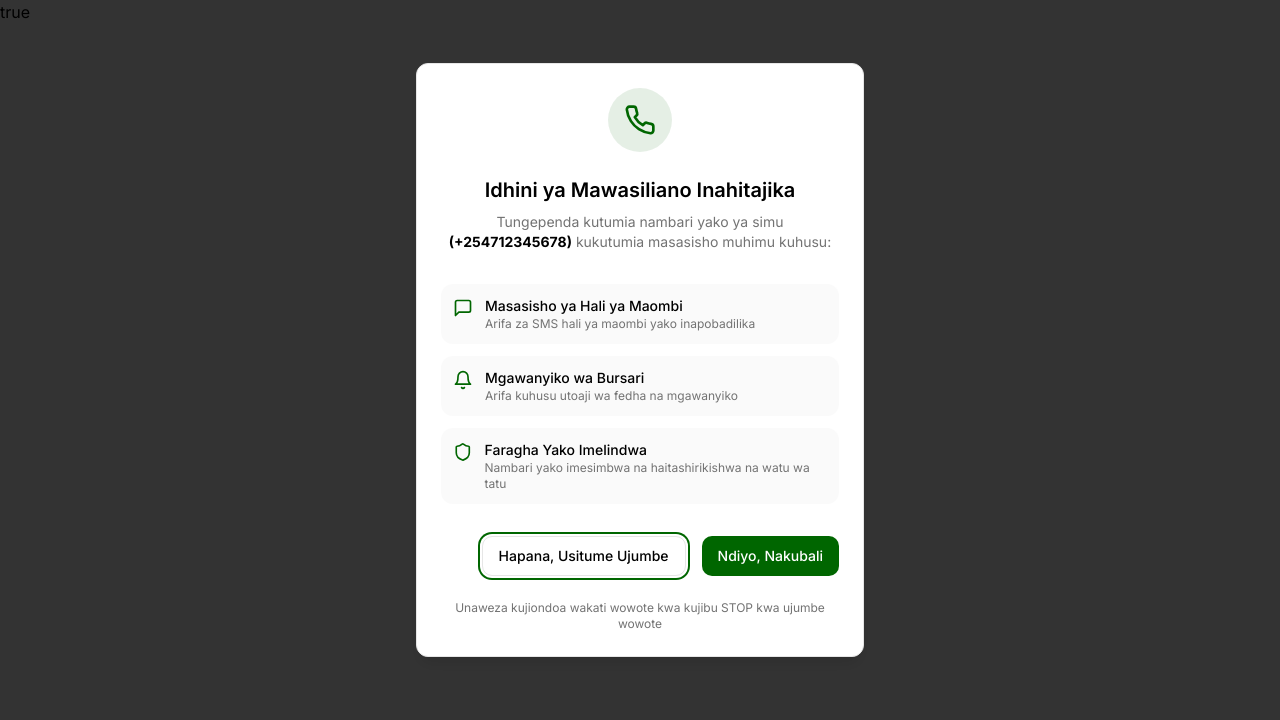
Test case: Consent persistence into ApplicationContext › stores consentNotifications=false when the user declines
Step 1. Click the button "Hapana, Usitume Ujumbe" → (584, 556), box [482,536,686,576]
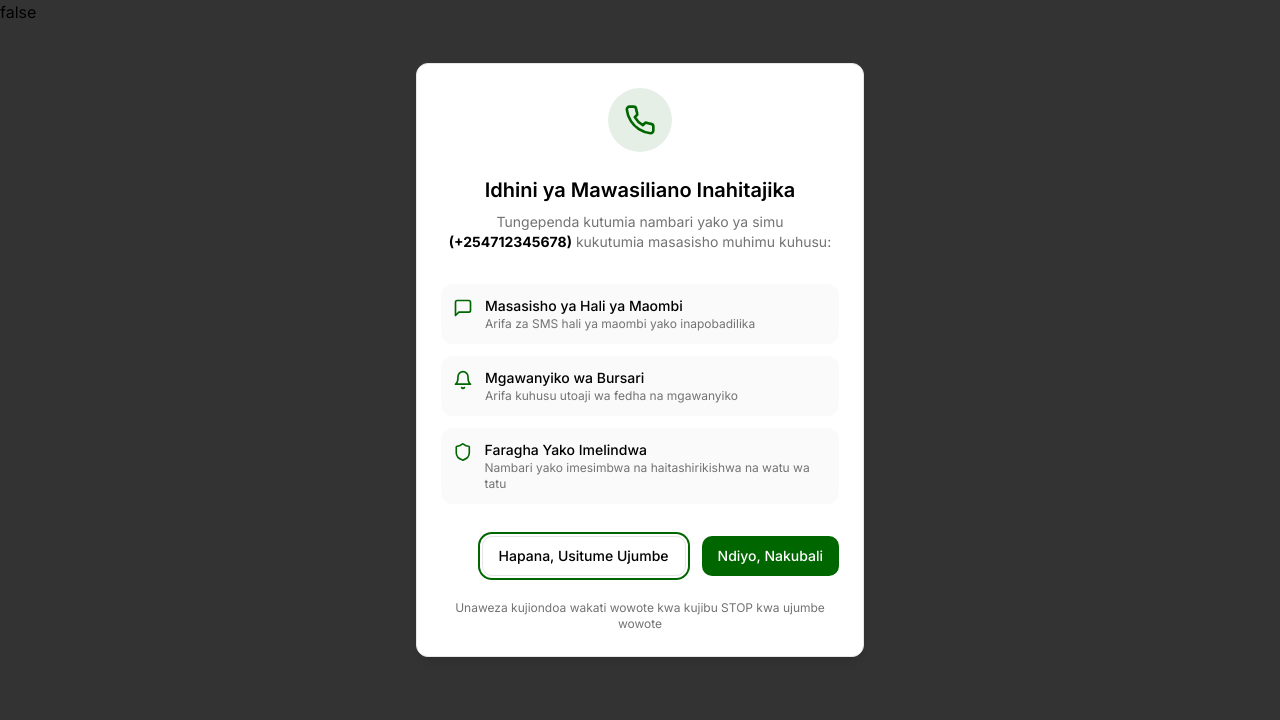
Expected: the text with test id "consent-state" reads "false", [0,2,36,22]
